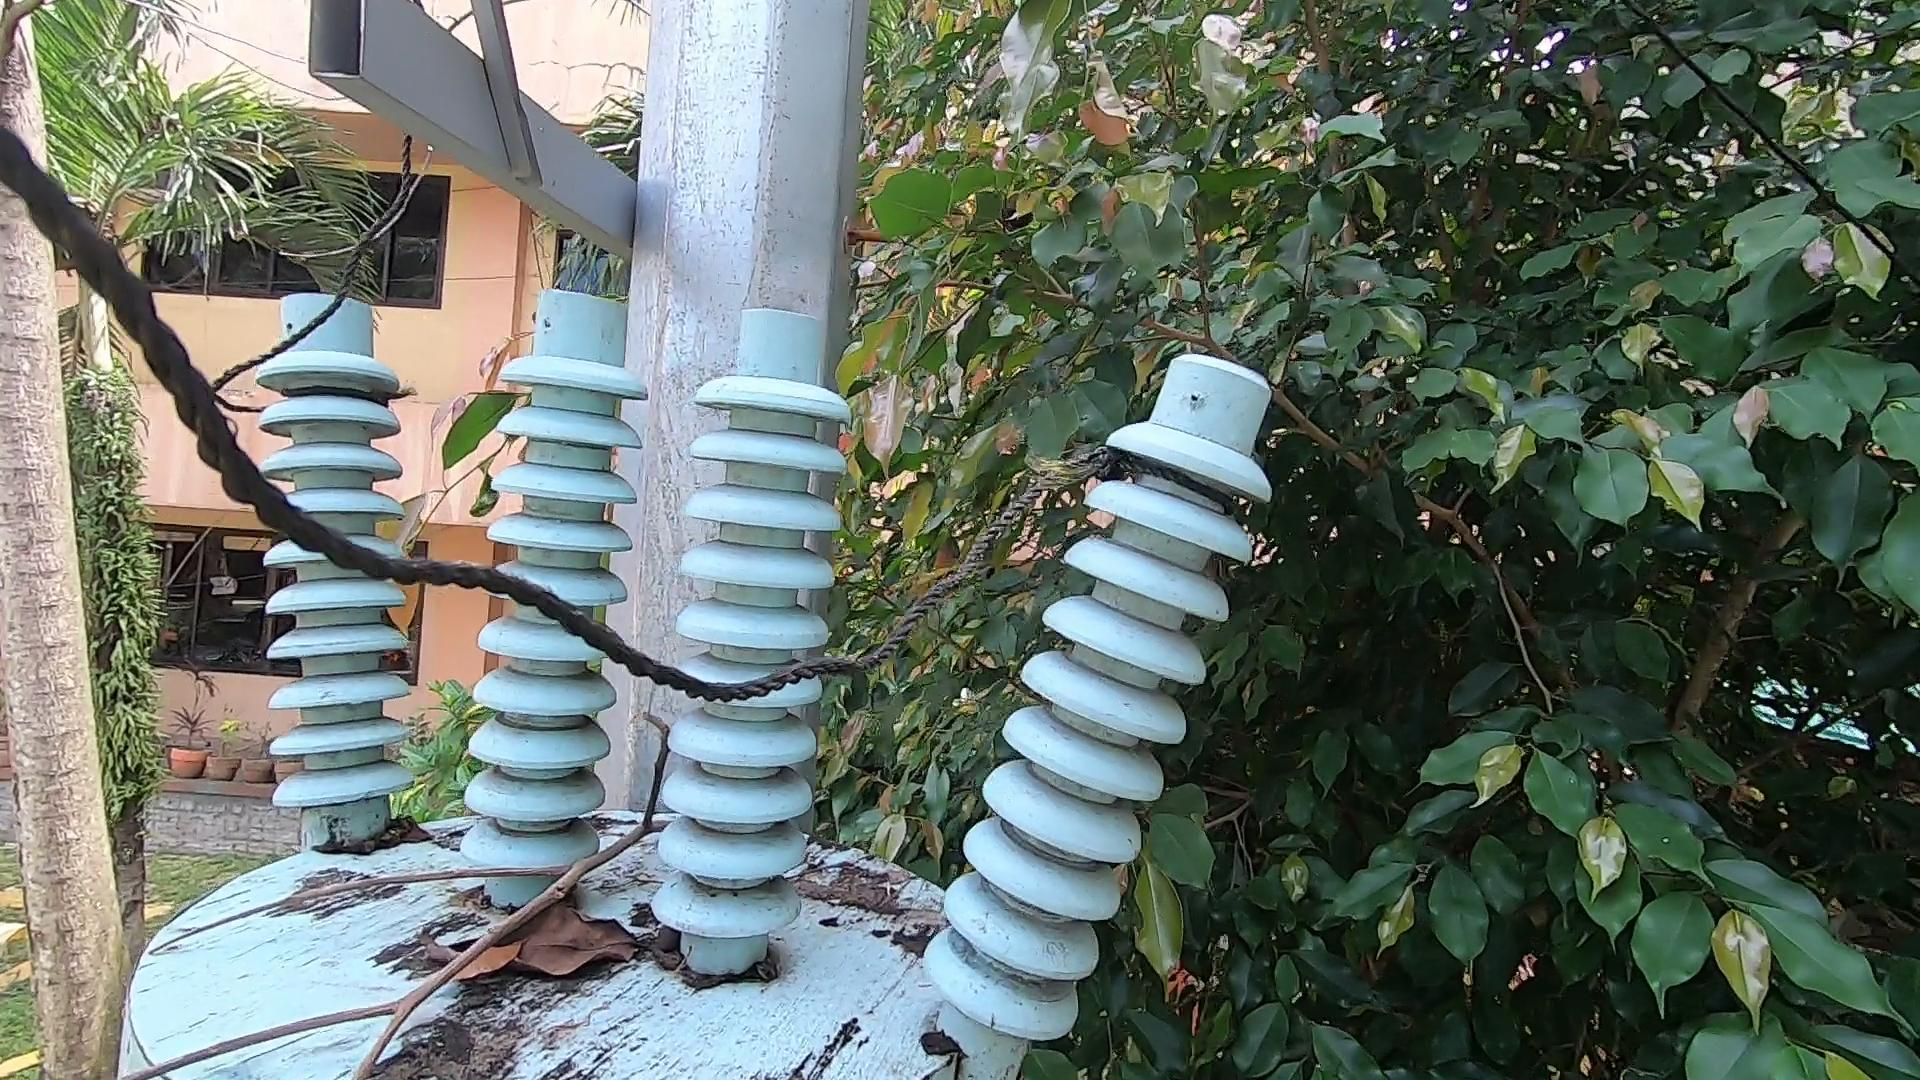leaf: (407, 903, 673, 992), (795, 848, 906, 923), (302, 814, 444, 860)
tree branch: (90, 814, 673, 1080)
